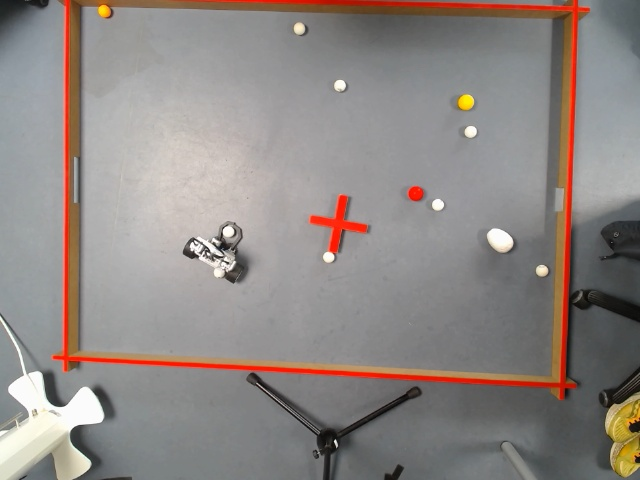big_goal: (60, 153, 88, 201)
cross: (306, 194, 372, 252)
egg: (488, 225, 511, 249)
orange: (95, 6, 110, 20)
robot: (178, 219, 248, 282)
small_goal: (550, 183, 568, 213)
wall: (47, 354, 575, 395)
white: (432, 195, 447, 212), (464, 122, 477, 138), (322, 252, 334, 264), (334, 78, 344, 92), (223, 225, 232, 239), (293, 21, 304, 32), (535, 266, 546, 276), (215, 266, 223, 278)
